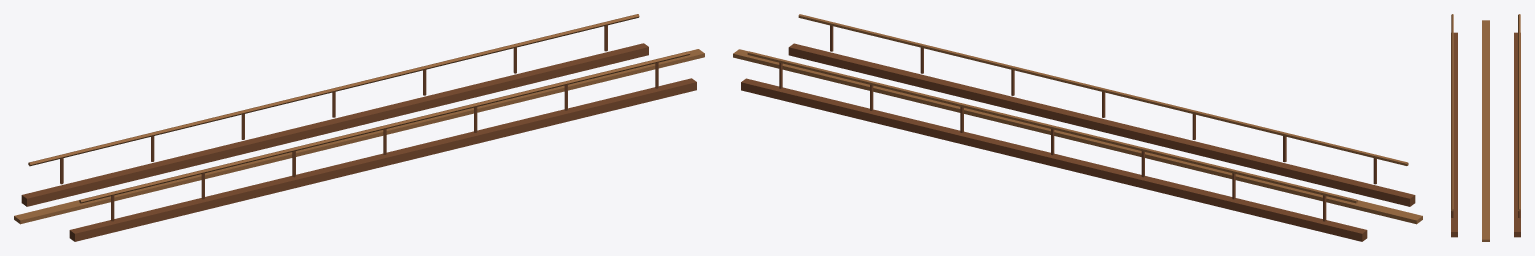
Rendered from boardwalk.glb.
3 renders of one model, left to right at view 1: azimuth 30°, elevation 25°; view 2: azimuth 150°, elevation 25°; view 3: azimuth 270°, elevation 25°, orthographic. The views are drawn at different scales.
Visible parts, largest first — view 1: boardwalk; view 2: boardwalk; view 3: boardwalk.
Boxes of the visible parts, x1,y1,x2,y2 form: boardwalk: [14, 14, 704, 241]; boardwalk: [733, 14, 1422, 241]; boardwalk: [1451, 14, 1520, 241].
Bounding box in the file's own units: 26.41 × 1.47 × 3.55.
